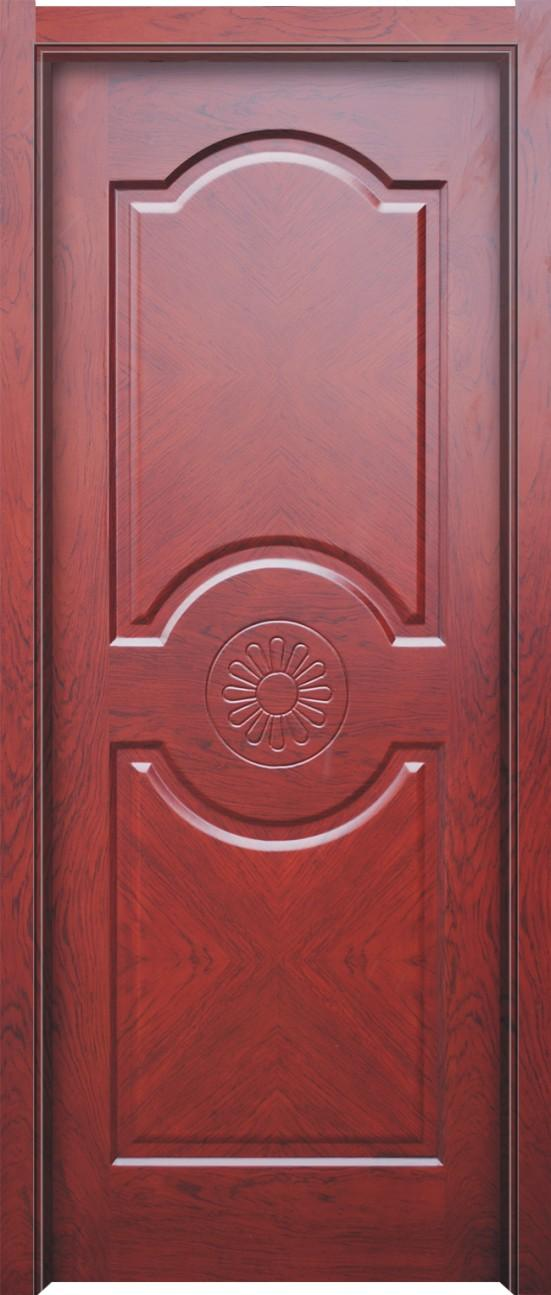door: (29, 46, 515, 1282)
